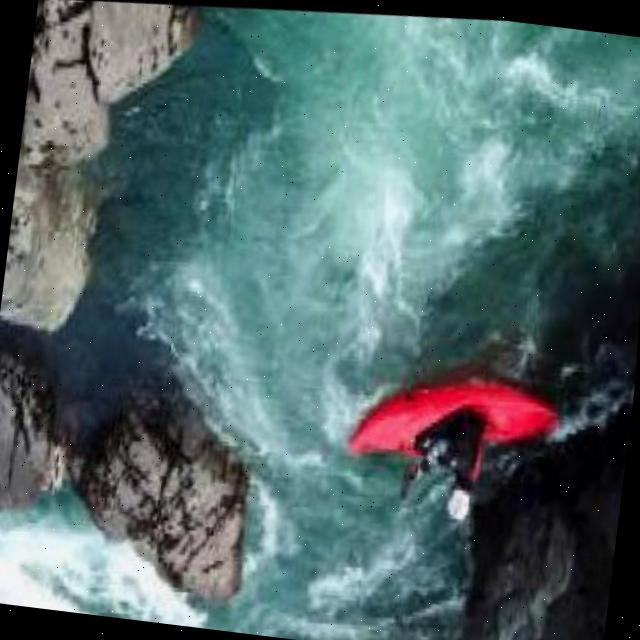kayak: (354, 380, 558, 452)
